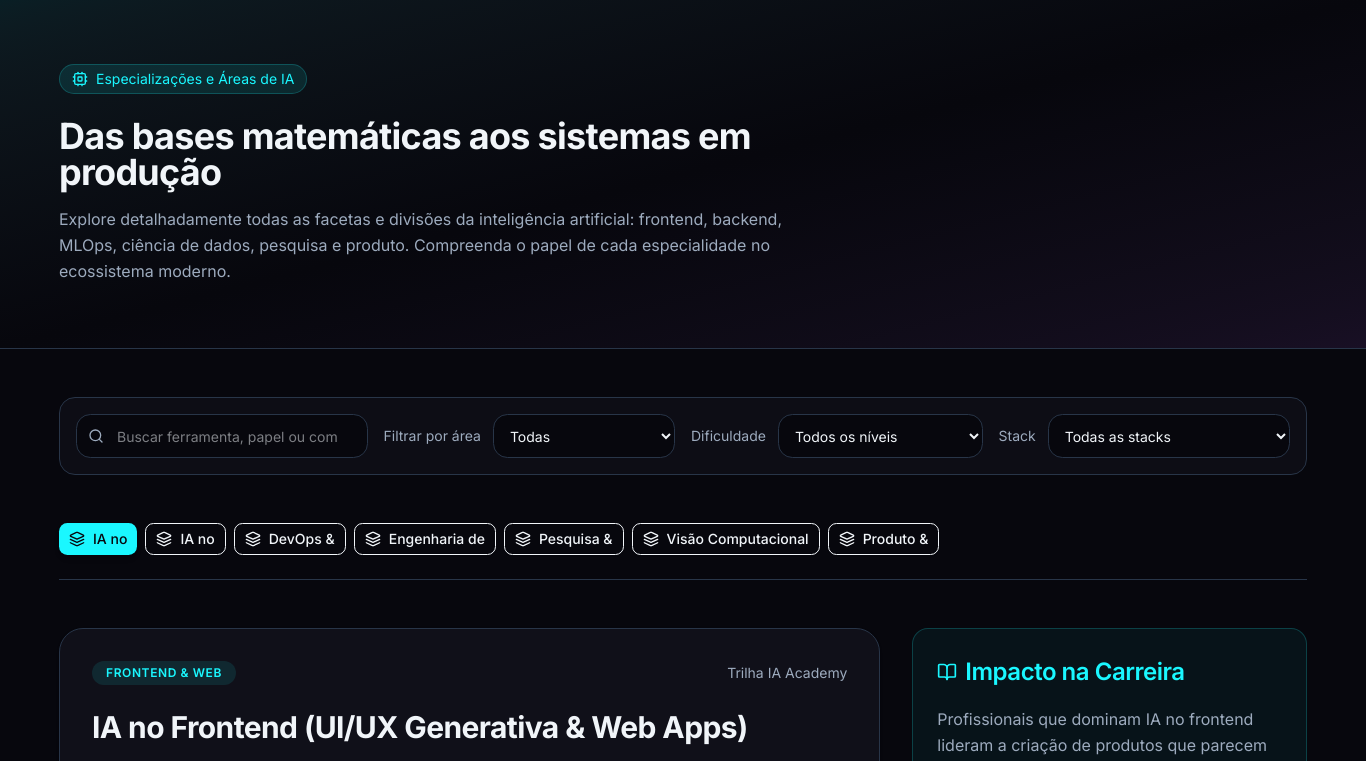
Test case: Specializations interactions › filtra por ferramenta e mantém a área correspondente visível
In the search field named "Buscar especializações": (222, 436) [76,414,368,458], type "OpenCV"
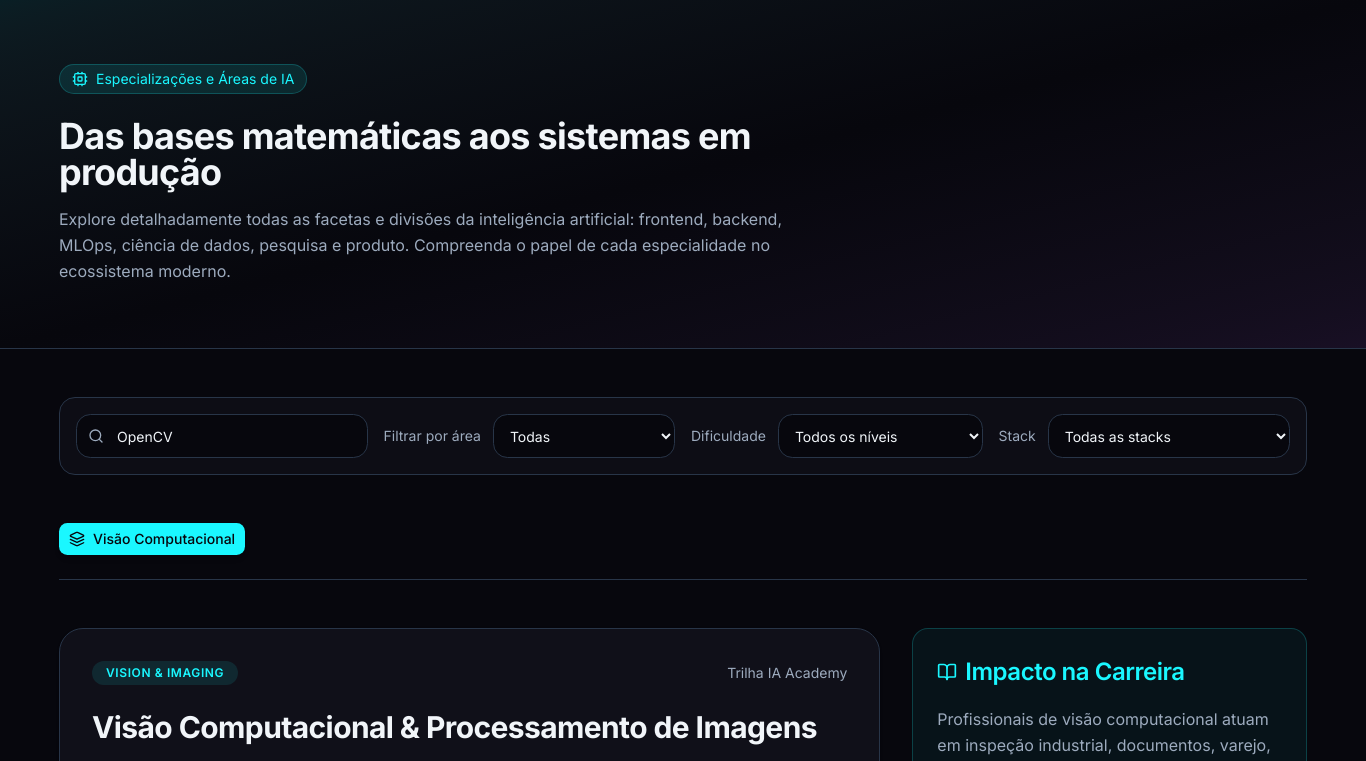
Result: the heading "Visão Computacional & Processamento de Imagens" is shown at [92,709,847,745]
Result: the heading "IA no Frontend" is gone
